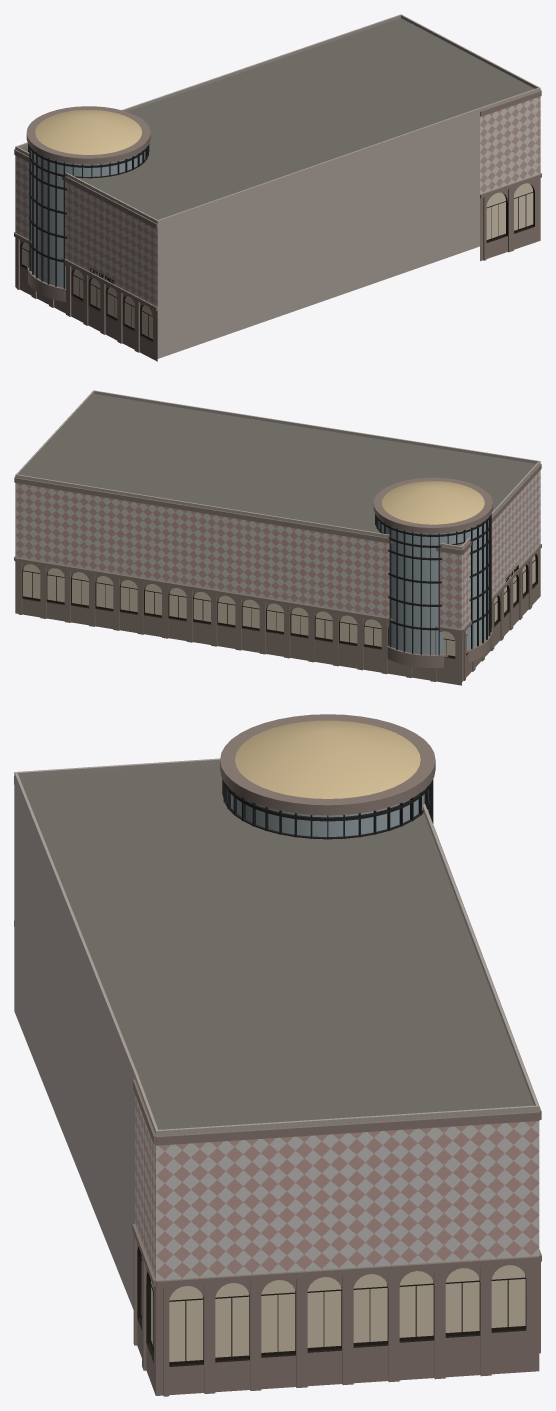
Rendered from neiman_lod0.glb.
3 renders of one model, top to bottom at view 1: azimuth 30°, elevation 25°; view 2: azimuth 150°, elevation 25°; view 3: azimuth 270°, elevation 25°, orthographic. The views are drawn at different scales.
Visible parts, largest first — view 1: L0_granite, L0_roof, L0_metal, L0_win, L0_clear, L0_shop; view 2: L0_granite, L0_roof, L0_shop, L0_metal, L0_clear, L0_win; view 3: L0_granite, L0_roof, L0_shop, L0_win, L0_metal, L0_clear.
Part boxes in pixels (x1,y1,x2,y2): L0_granite: (14, 14, 541, 361); L0_roof: (21, 18, 534, 219); L0_metal: (20, 144, 534, 342); L0_win: (35, 110, 141, 154); L0_clear: (31, 150, 145, 288); L0_shop: (22, 183, 533, 339); L0_granite: (14, 390, 541, 685); L0_roof: (20, 394, 535, 546); L0_shop: (23, 555, 535, 656); L0_metal: (22, 514, 537, 658); L0_clear: (378, 520, 488, 654); L0_win: (382, 481, 484, 524); L0_granite: (14, 714, 541, 1396); L0_roof: (19, 764, 533, 1129); L0_shop: (141, 1257, 525, 1361); L0_win: (235, 720, 420, 798); L0_metal: (137, 779, 526, 1366); L0_clear: (227, 789, 428, 836).
Bounding box in the file's own units: 98.81 × 38.43 × 56.84.
